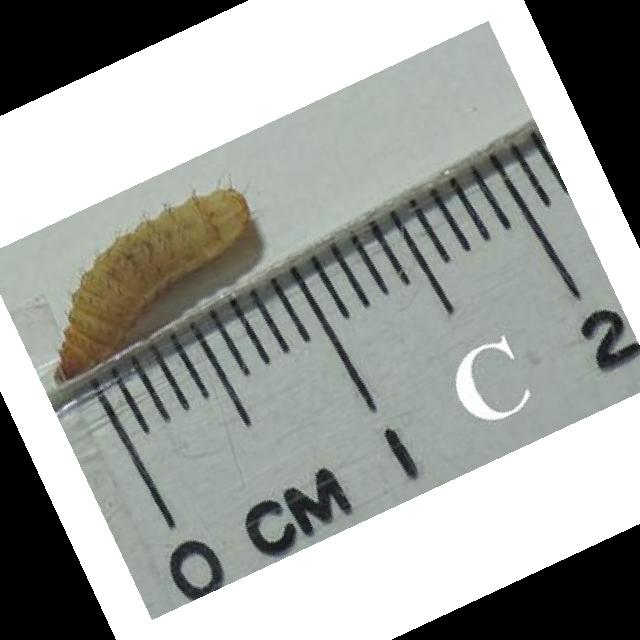Maggot: (53, 186, 250, 380)
